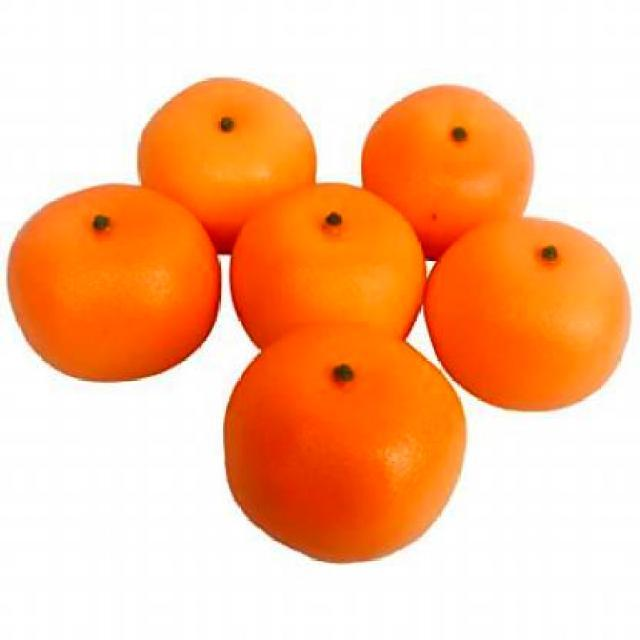Jeruk Sudah Matang: (226, 329, 472, 563), (3, 180, 225, 386), (430, 218, 632, 412), (226, 181, 428, 374), (134, 75, 316, 256), (359, 89, 538, 243)
